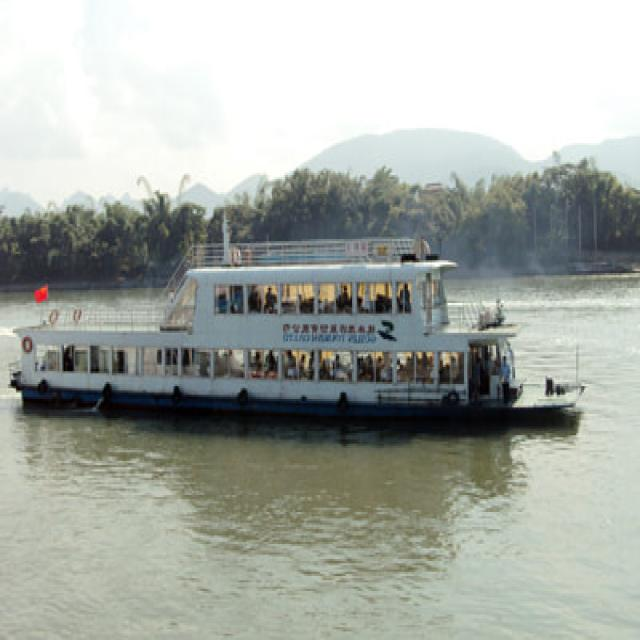passenger ship: (5, 215, 574, 440)
